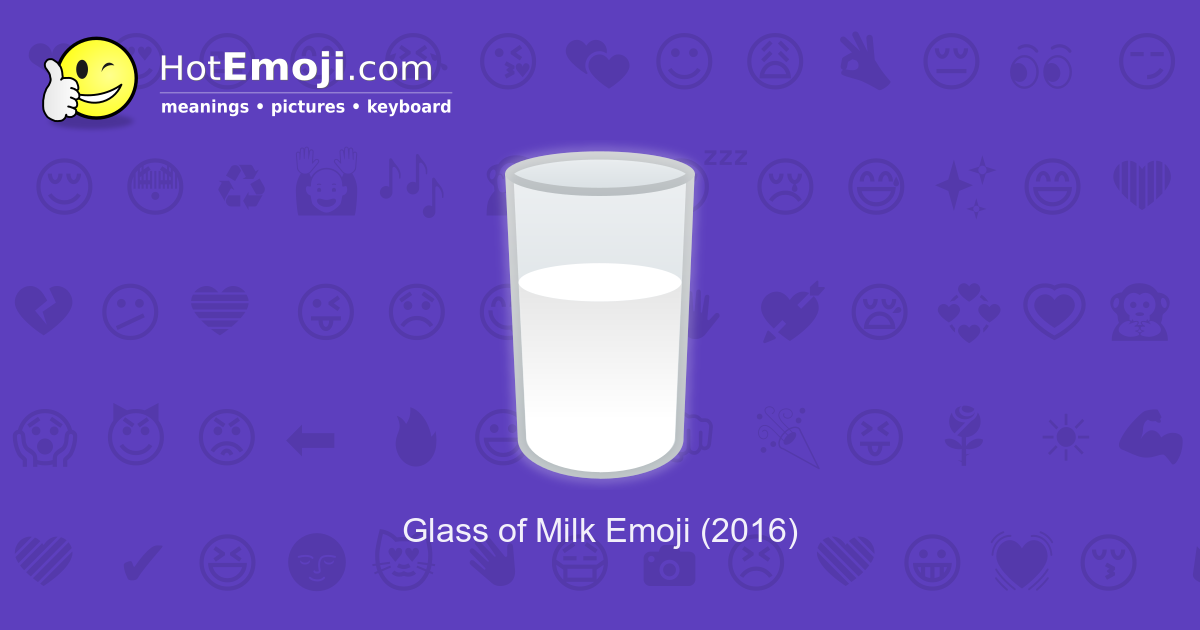glass of milk: (499, 163, 699, 478)
